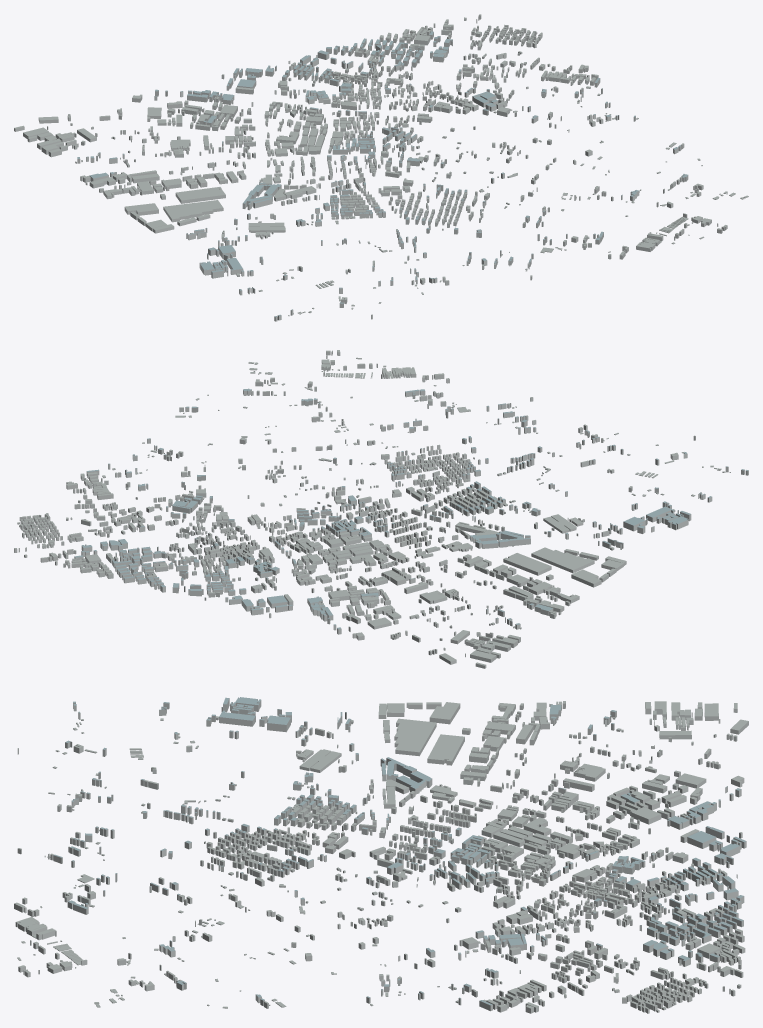
File: far.glb
3 renders of one model, top to bottom at view 1: azimuth 30°, elevation 25°; view 2: azimuth 150°, elevation 25°; view 3: azimuth 270°, elevation 25°, orthographic. The views are drawn at different scales.
Bounding box in the file's own units: 2127 × 27 × 2130.
